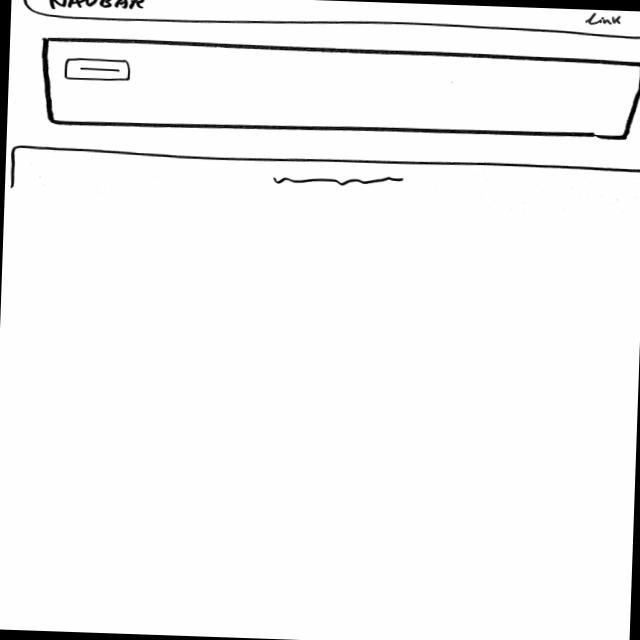container: (38, 36, 640, 146), (19, 1, 640, 40)
icon-button: (62, 56, 136, 85)
label: (47, 1, 148, 11), (585, 14, 625, 28)
text: (271, 173, 408, 191)
